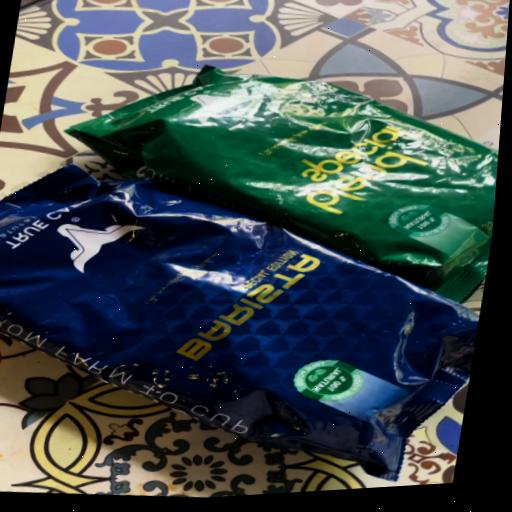cafe_hat: (0, 165, 479, 480)
cafe_xay: (71, 69, 499, 302)
